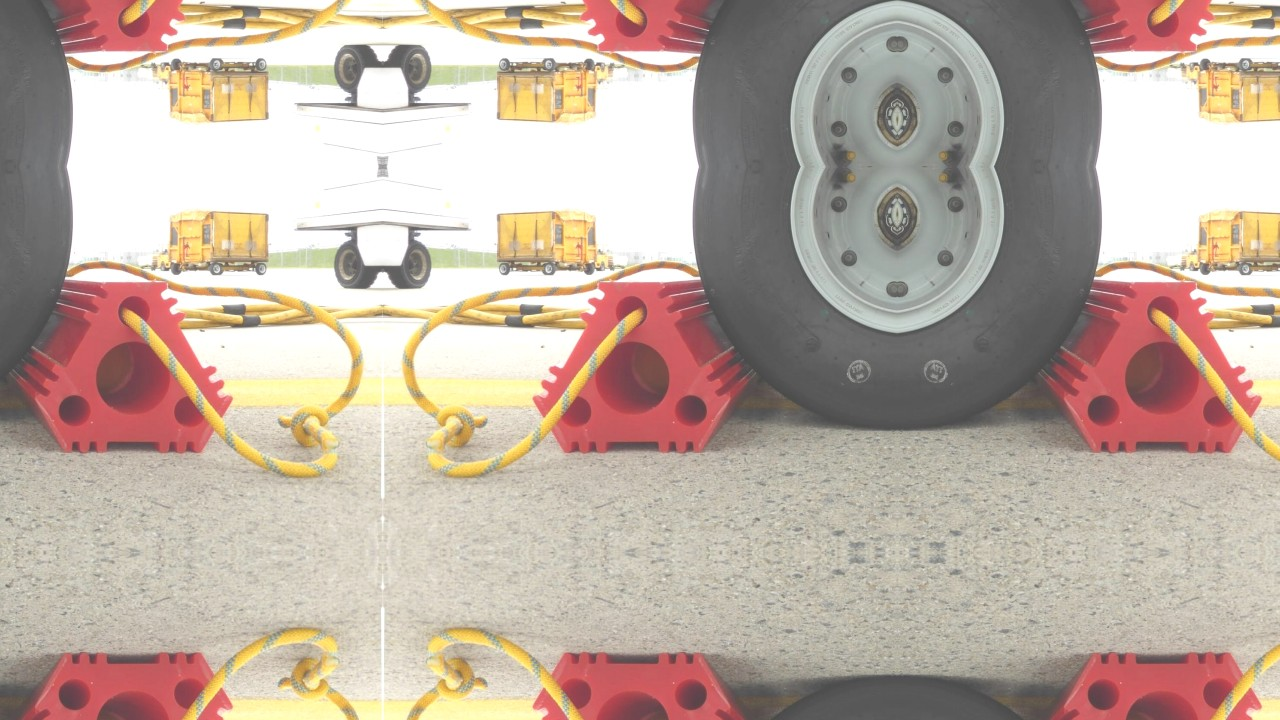chock: (4, 277, 233, 455), (532, 277, 761, 455), (1034, 277, 1263, 455), (4, 652, 233, 720), (532, 652, 761, 720), (1034, 652, 1263, 720), (4, 0, 233, 56), (532, 0, 761, 56), (1034, 0, 1263, 56)
wheel: (692, 167, 897, 431), (898, 167, 1103, 431), (692, 0, 897, 166), (898, 0, 1103, 166), (0, 167, 73, 431), (0, 0, 73, 166), (692, 675, 897, 720), (898, 675, 1103, 720), (334, 45, 376, 91), (389, 45, 431, 91), (334, 242, 376, 288), (389, 242, 431, 288), (209, 59, 222, 71), (543, 59, 556, 71), (1239, 59, 1252, 71), (209, 262, 222, 274), (543, 262, 556, 274), (1239, 262, 1252, 274), (254, 58, 266, 70), (254, 263, 266, 275), (584, 59, 595, 71), (499, 58, 510, 70), (1200, 59, 1211, 71), (584, 262, 595, 274), (499, 263, 510, 275), (1200, 262, 1211, 274), (171, 59, 181, 71), (171, 262, 181, 274), (158, 62, 167, 73), (598, 62, 607, 73), (1188, 62, 1197, 73), (158, 260, 167, 271), (598, 260, 607, 271), (1188, 260, 1197, 271)
